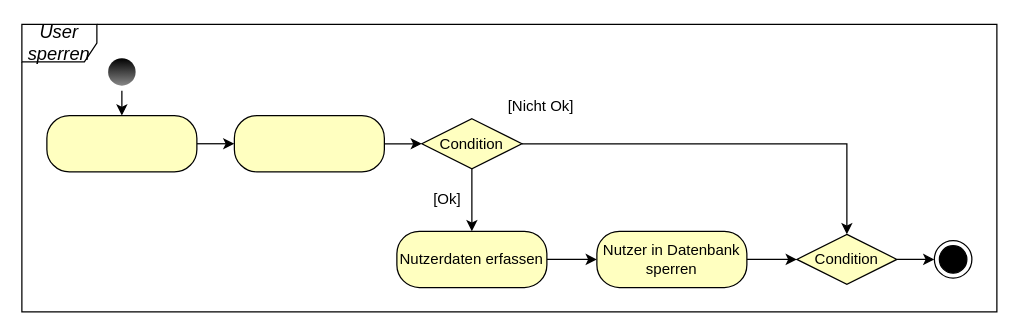
Image size: 1019x334. Some labels were removed from this diagram. The centre of each missing label's shape, as x and y in pixels:
Sperrungsgrund prüfen: (308,143)
Verstoß gegen Nutzungsbedingungen: (121,143)
